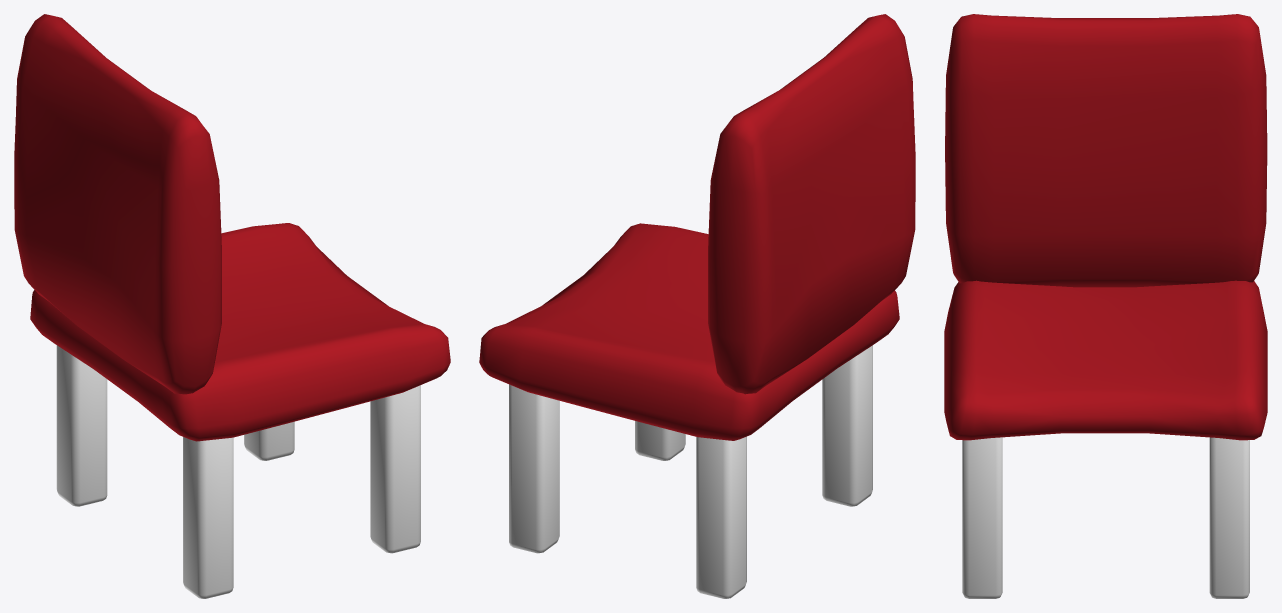
The model's file is Props_Chair_03.fbx.
The picture shows the model from 3 angles, left to right: view 1: azimuth 30°, elevation 25°; view 2: azimuth 150°, elevation 25°; view 3: azimuth 270°, elevation 25°; orthographic projection. The views are drawn at different scales.
Parts seen in each view (by area): view 1: Props_Chair_03; view 2: Props_Chair_03; view 3: Props_Chair_03.
Part boxes in pixels (bbox=[...]): Props_Chair_03: bbox=[14, 14, 450, 598]; Props_Chair_03: bbox=[479, 14, 915, 598]; Props_Chair_03: bbox=[944, 14, 1267, 598].
Bounding box in the file's own units: 53.9 × 86.97 × 53.47.
